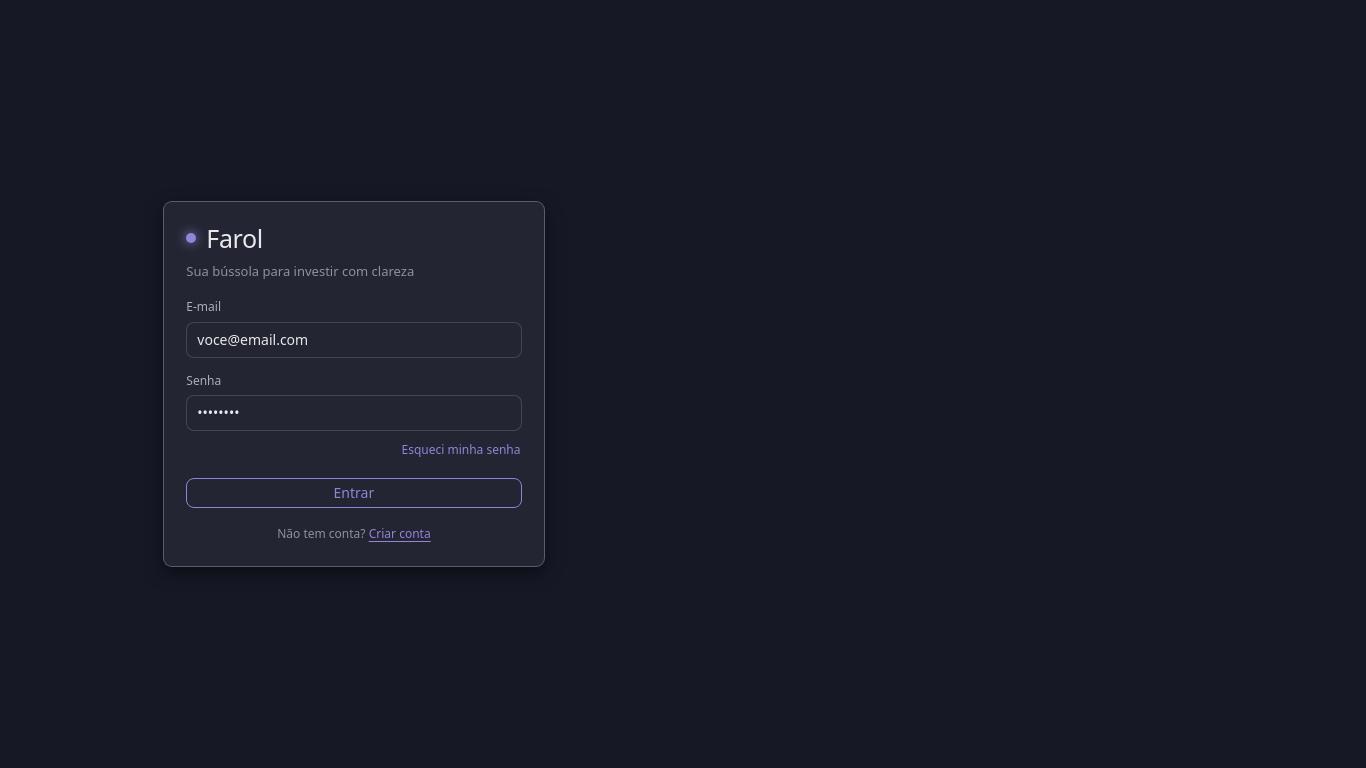
Test: App › shows the dashboard after logging in
Click the button "Entrar": {"x": 354, "y": 493} [186, 478, 522, 508]
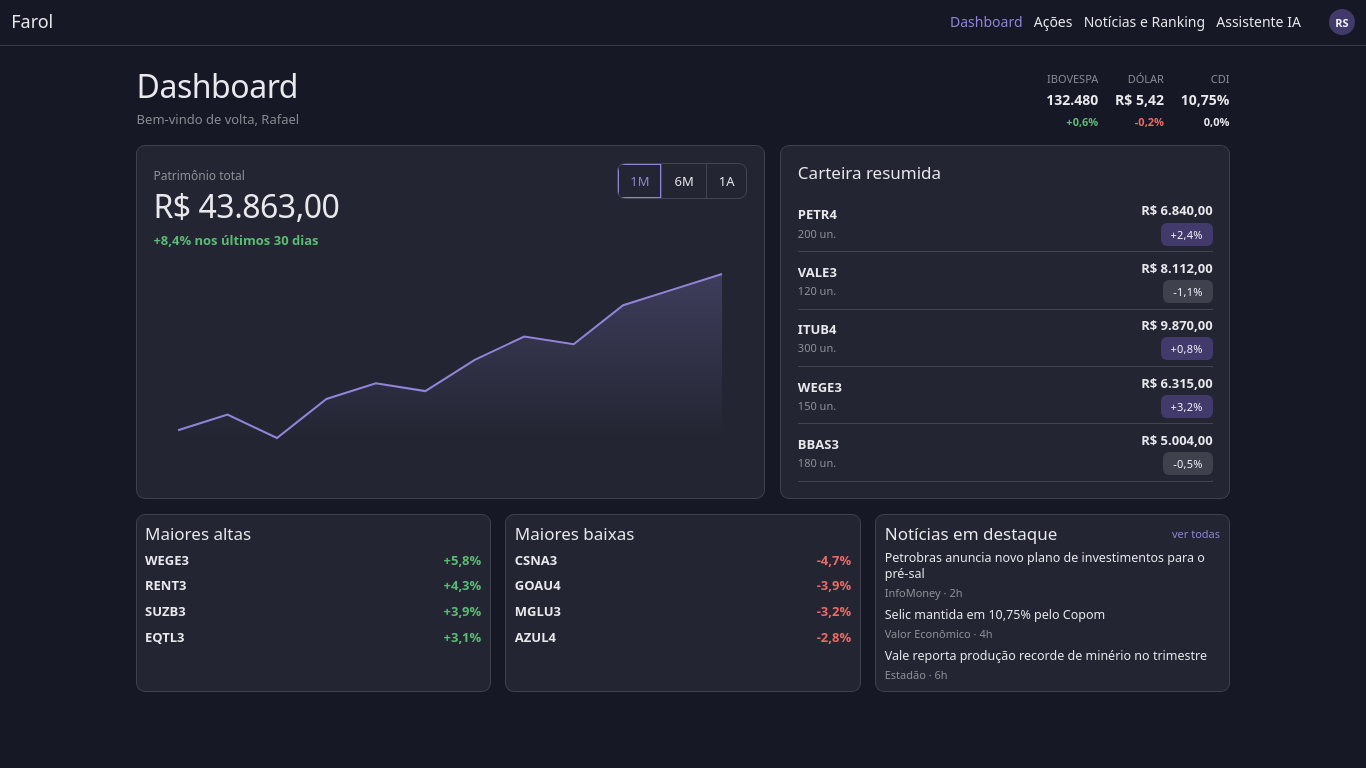
Check: the heading "Dashboard" is shown, box [137, 68, 299, 104]
